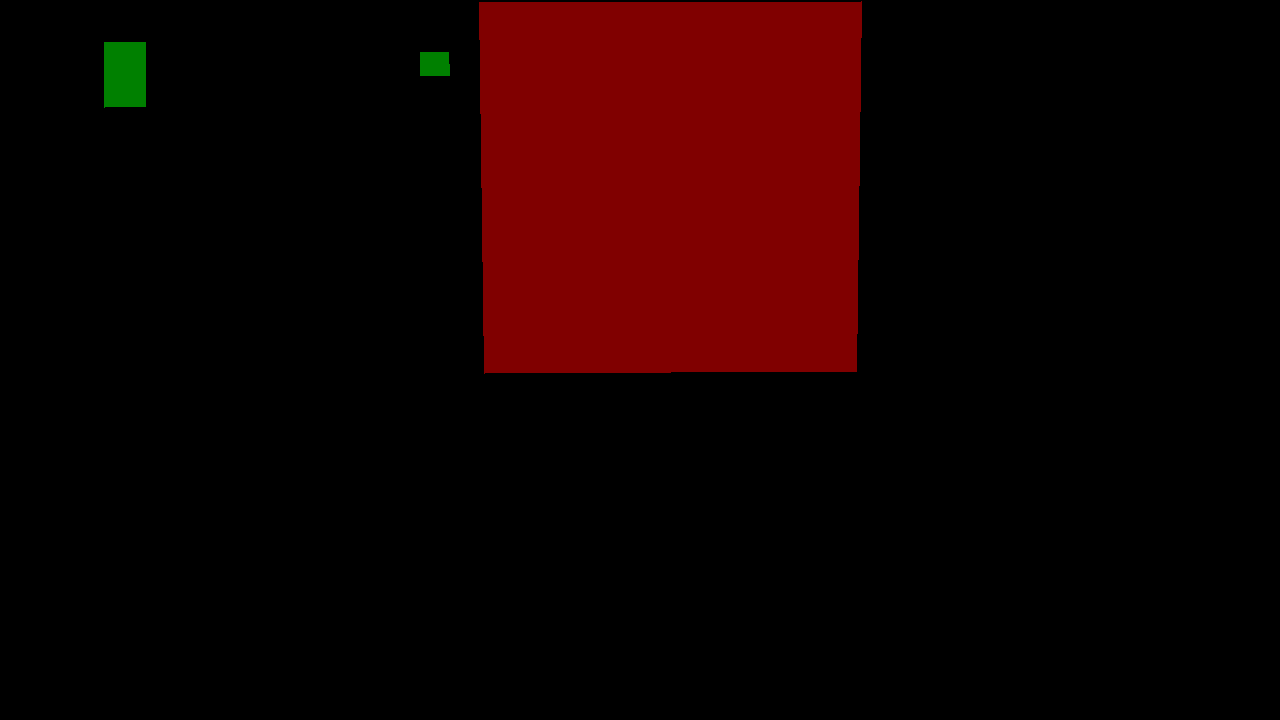door: (479, 1, 861, 373)
sign: (104, 42, 145, 107), (420, 52, 449, 75)
